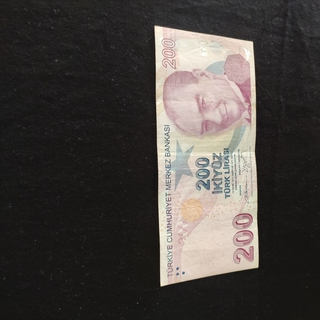200TLFront: (153, 24, 258, 287)
